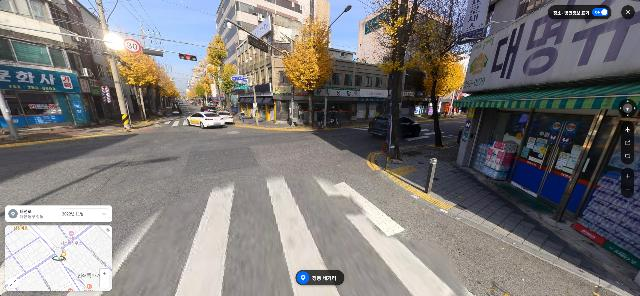ginkgo: (358, 0, 440, 160), (399, 1, 464, 148), (283, 1, 337, 129), (115, 33, 157, 122), (207, 32, 229, 111), (148, 60, 170, 117), (220, 61, 239, 112), (159, 72, 174, 112), (195, 75, 213, 105), (188, 81, 198, 105)
